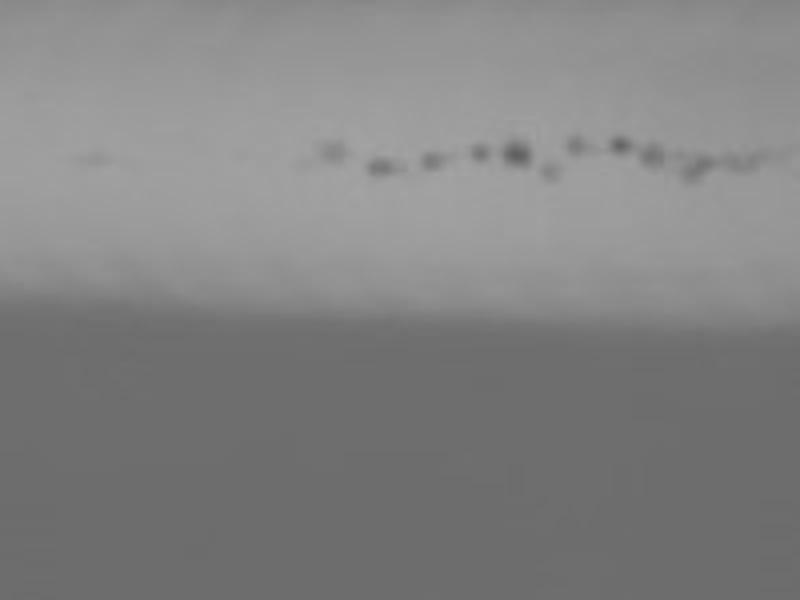defect: (314, 137, 344, 166), (638, 142, 665, 168), (370, 155, 401, 177), (729, 153, 758, 175), (503, 140, 529, 164), (608, 131, 632, 155), (425, 151, 449, 173), (696, 151, 720, 172), (678, 165, 703, 185), (542, 163, 563, 184), (568, 133, 588, 154), (473, 144, 491, 162)
